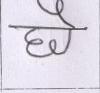au_matra: (56, 1, 78, 53)
